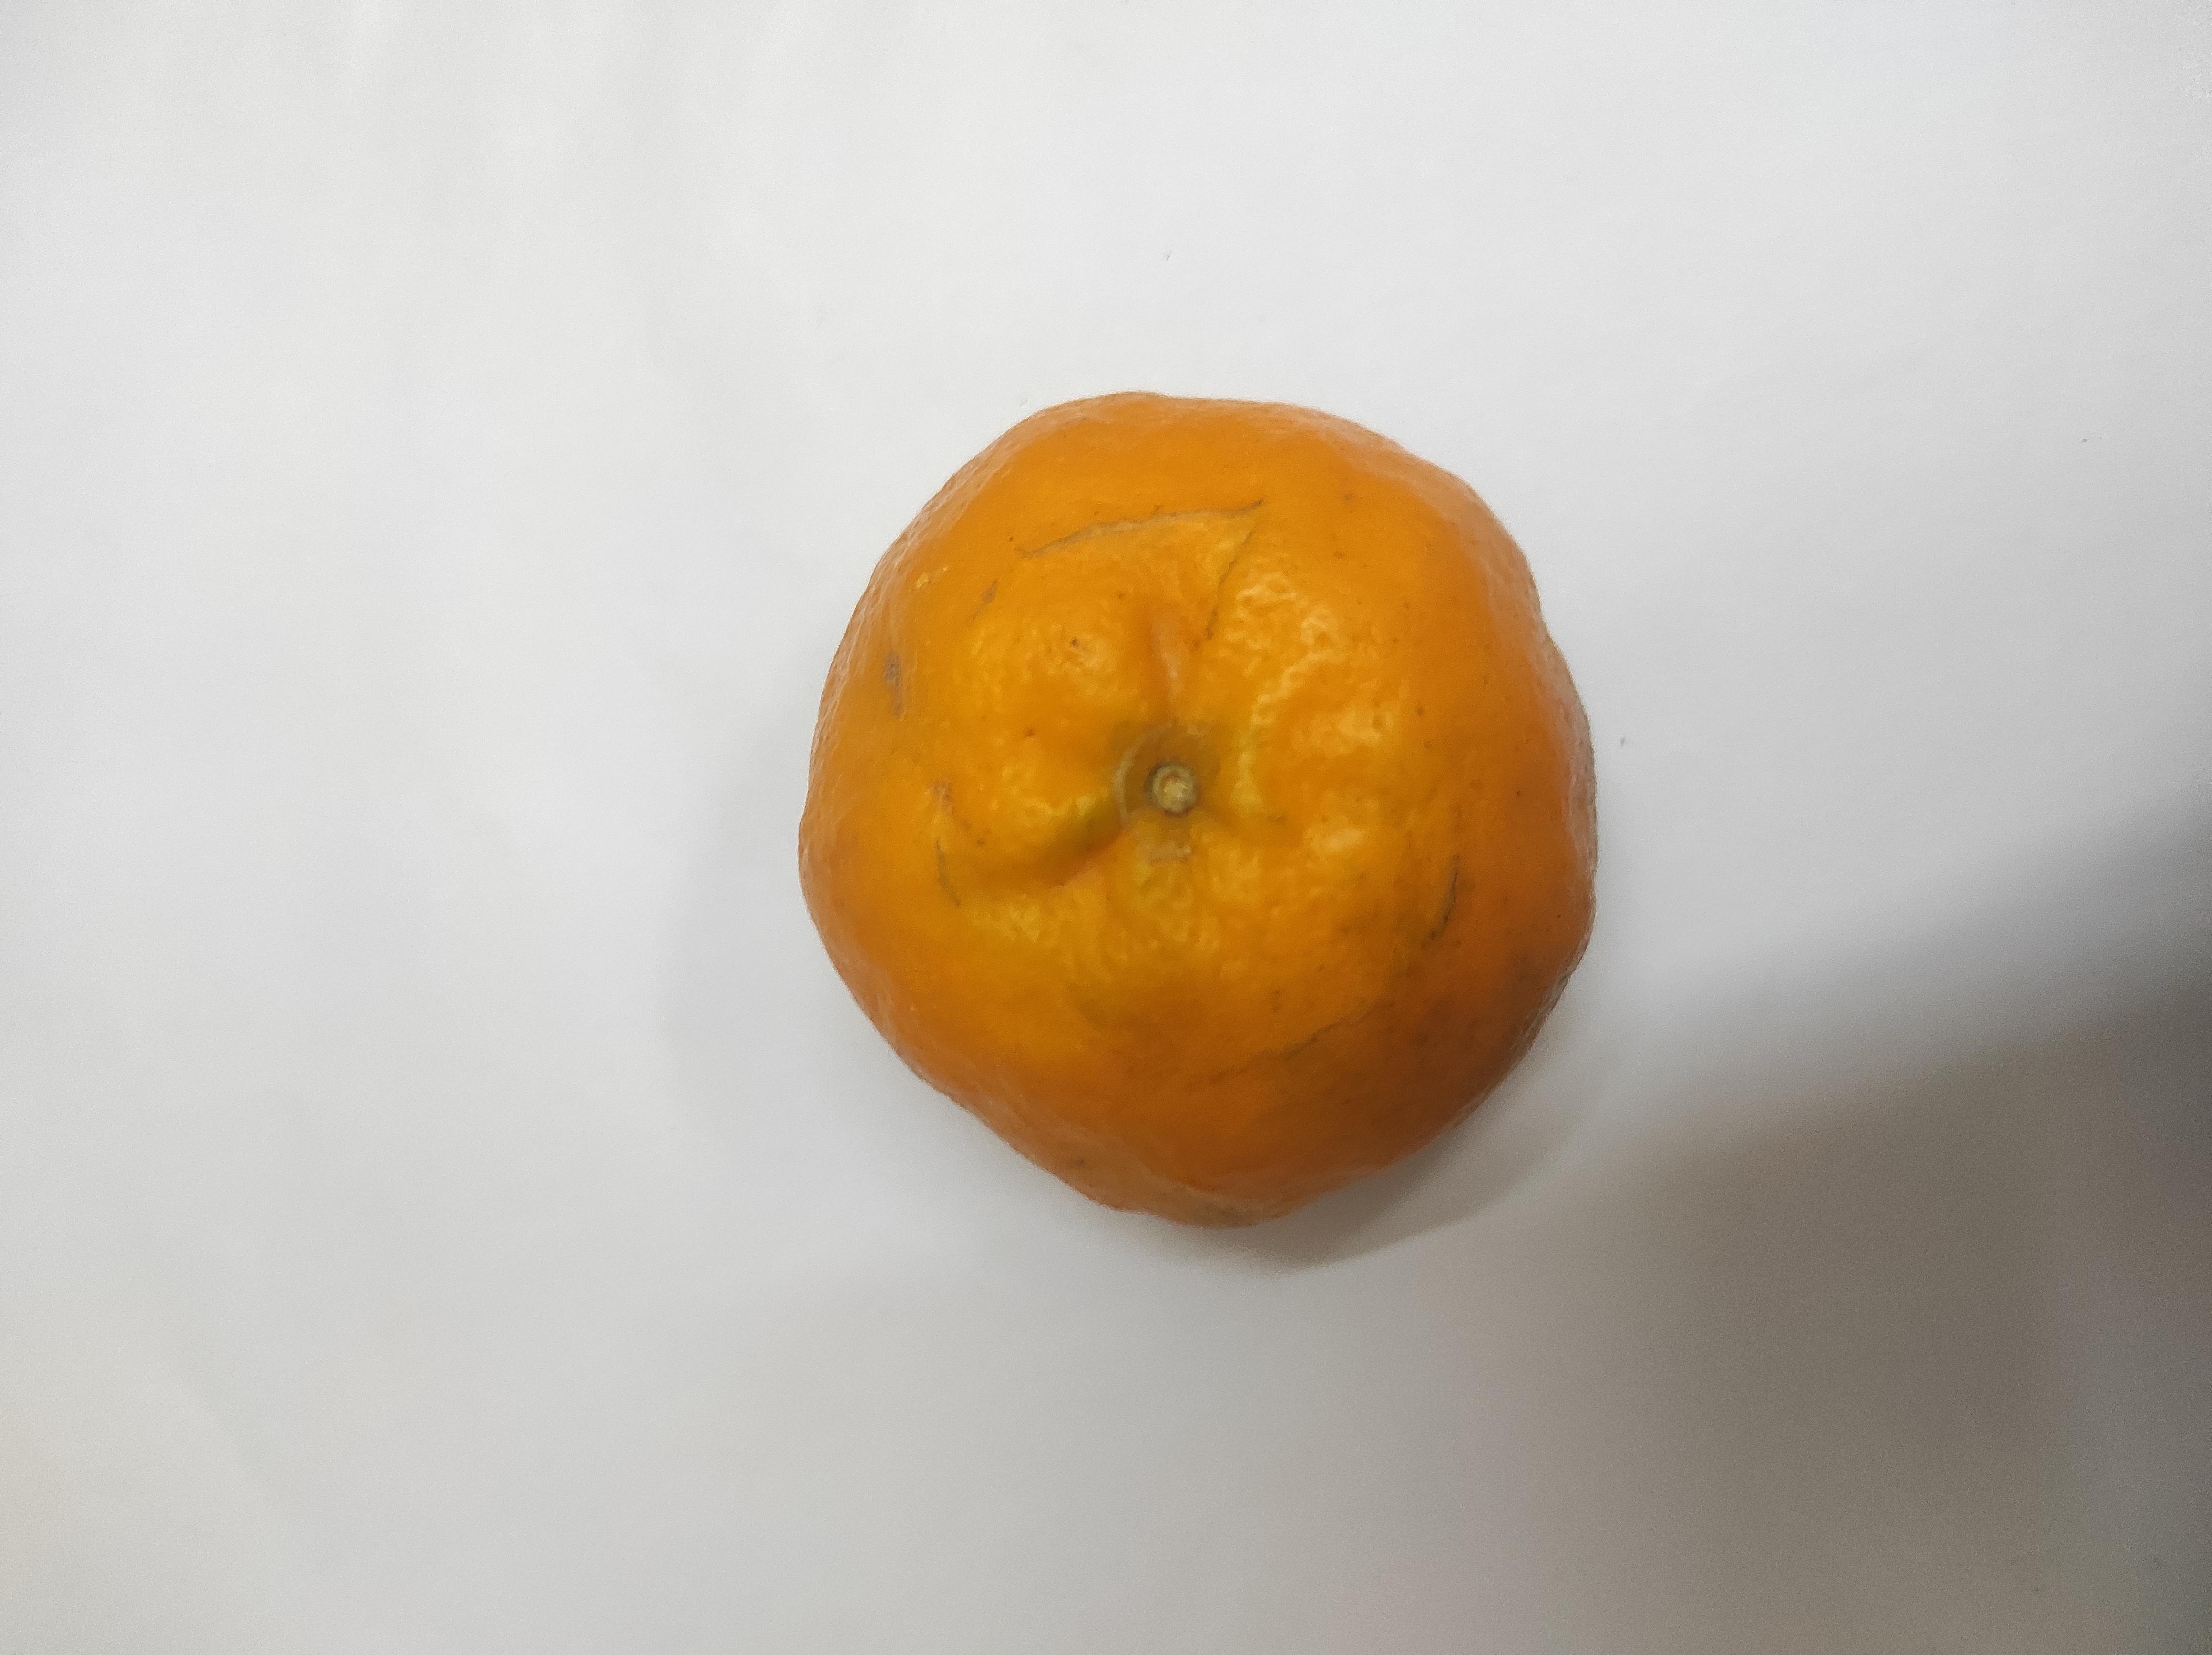Ripe: (560, 603, 1701, 1194)
